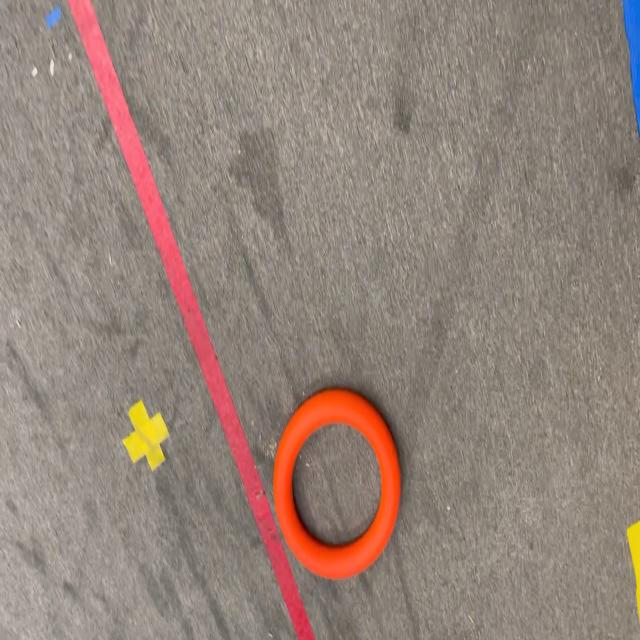note: (272, 384, 400, 575)
